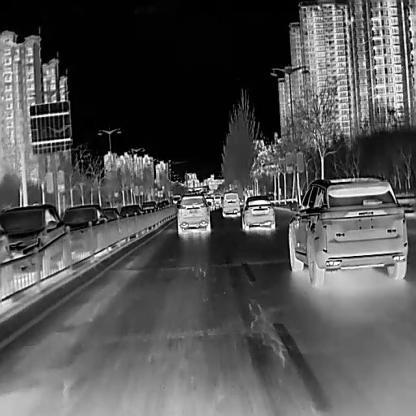car: (288, 176, 408, 286), (0, 202, 70, 272), (61, 202, 109, 255), (175, 193, 211, 235), (239, 194, 275, 230), (119, 201, 147, 237), (101, 205, 124, 243), (220, 190, 240, 217), (140, 200, 158, 223), (213, 194, 221, 208)
